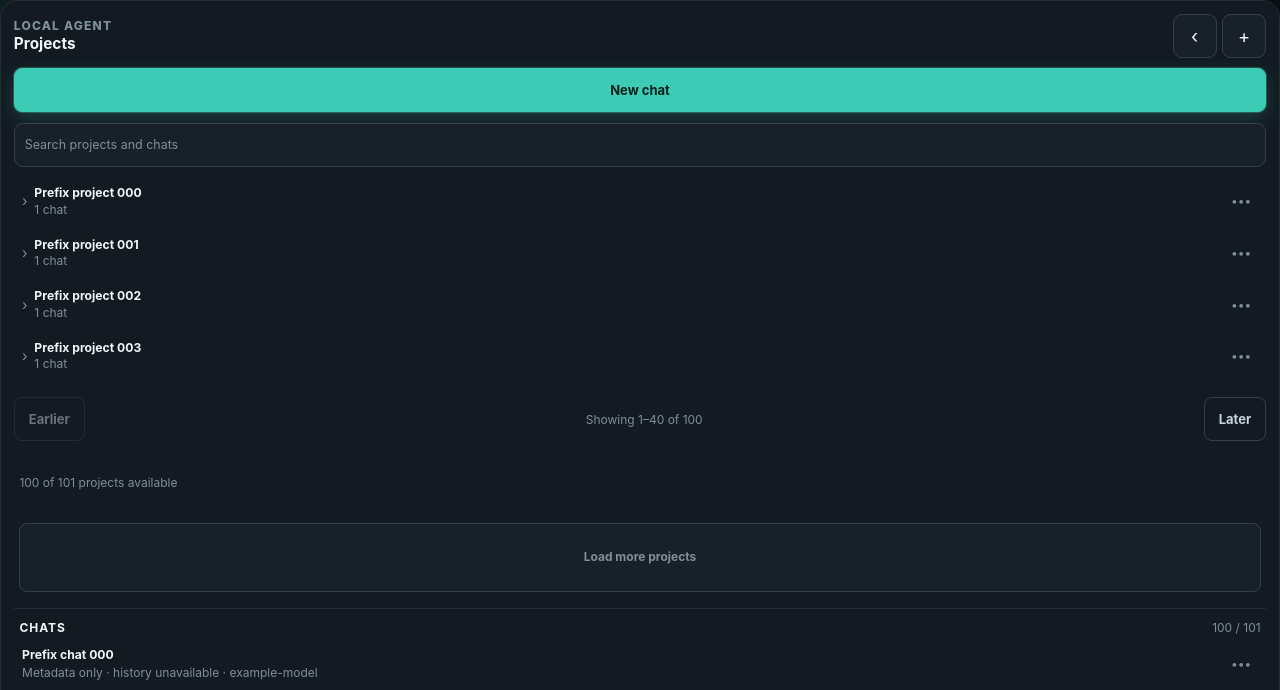
AgentCatalogRail › aborts delayed project and chat continuations and refuses their late records after search replacement
Expected: the text "100 of 101 projects available" is shown, [19, 475, 178, 490]
Click the button "Load more projects" at point(640, 558), box [19, 523, 1261, 592]
(page scrolled)
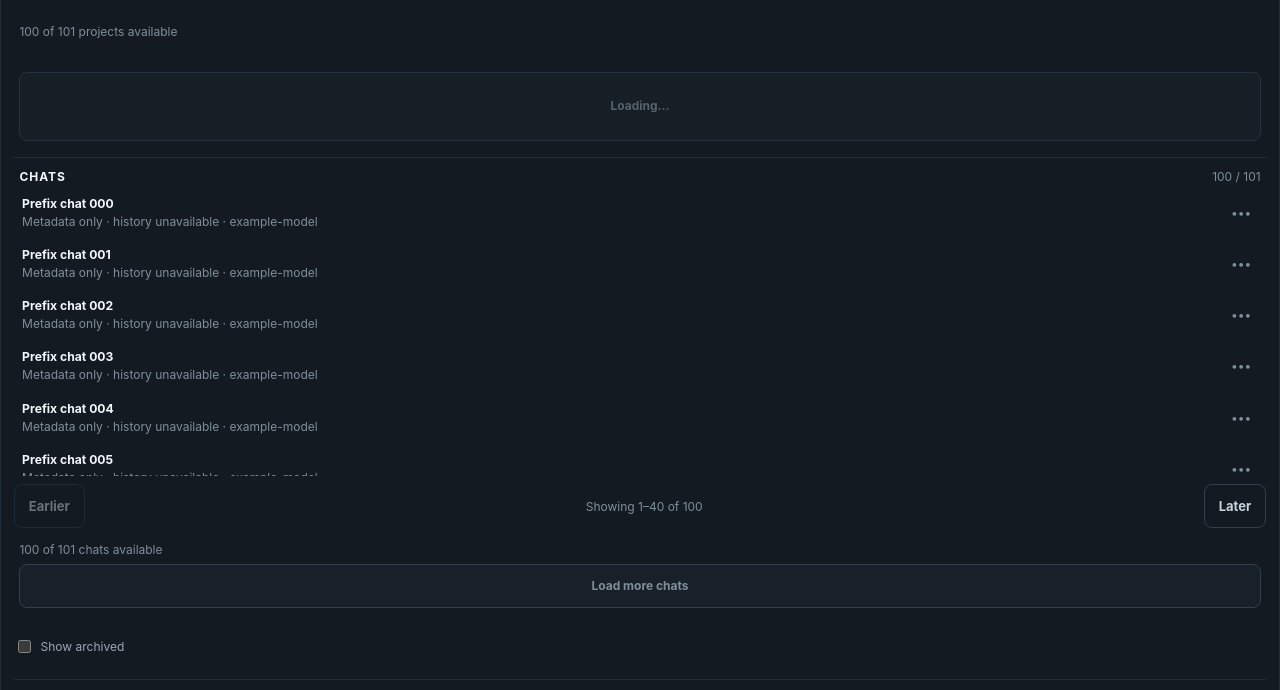
Click the button "Load more chats" at point(640, 586), box [19, 564, 1261, 608]
(page scrolled)
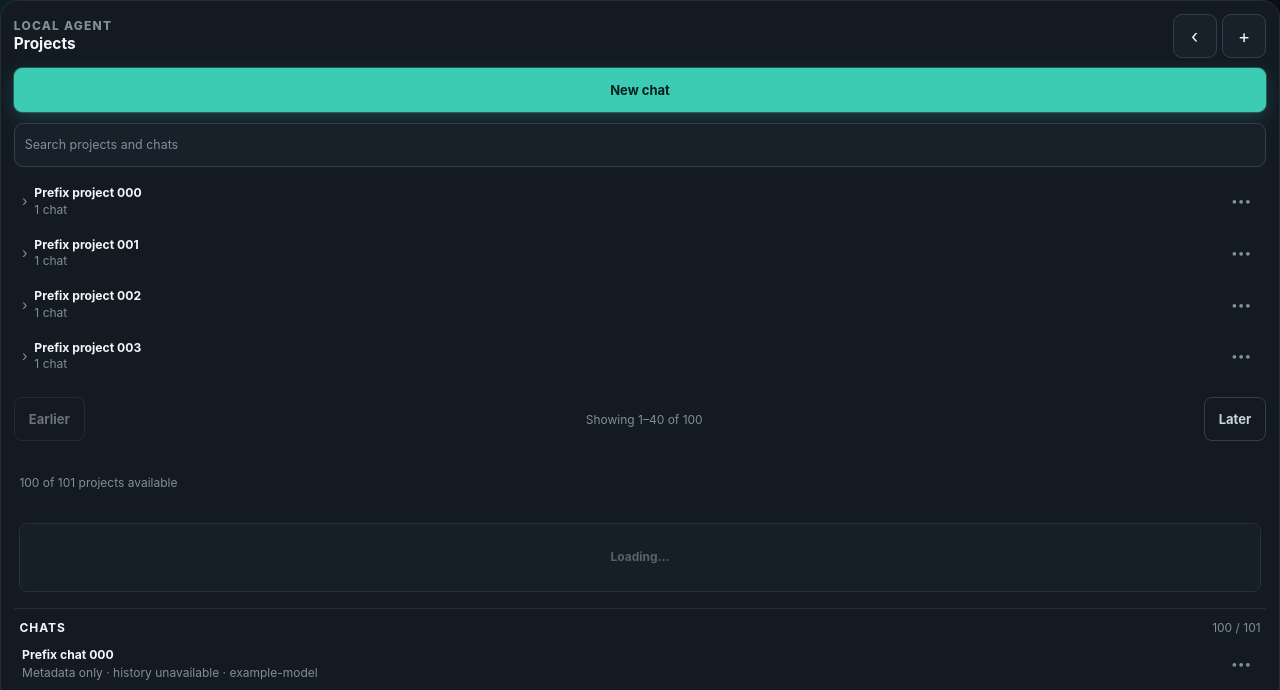
Type "fresh" into the search field at point(640, 145), box [14, 123, 1266, 167]
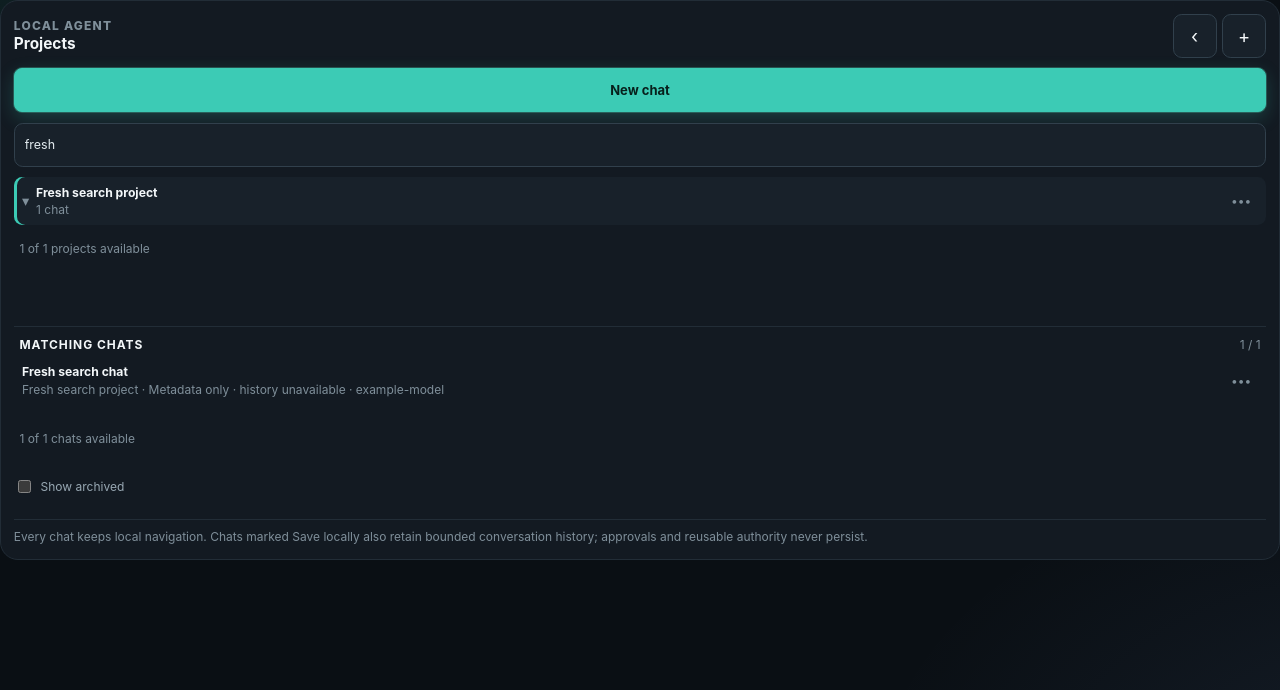
Expected: the button with aria-label "Fresh search chat ·" is shown, [14, 357, 1219, 405]
Expected: the text "Fresh search project" is shown, [36, 185, 158, 200]
